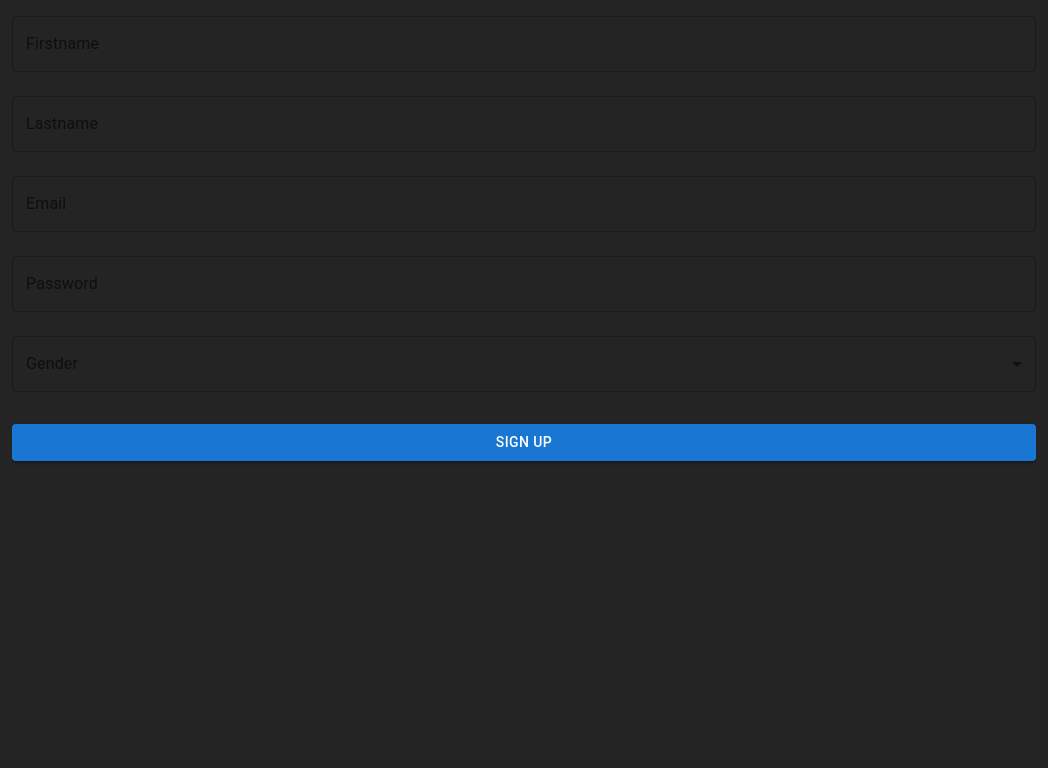
SignupForm › shows validation errors when fields are empty
Click the button "Sign Up".
click(524, 442)  # box left=12, top=424, right=1036, bottom=460
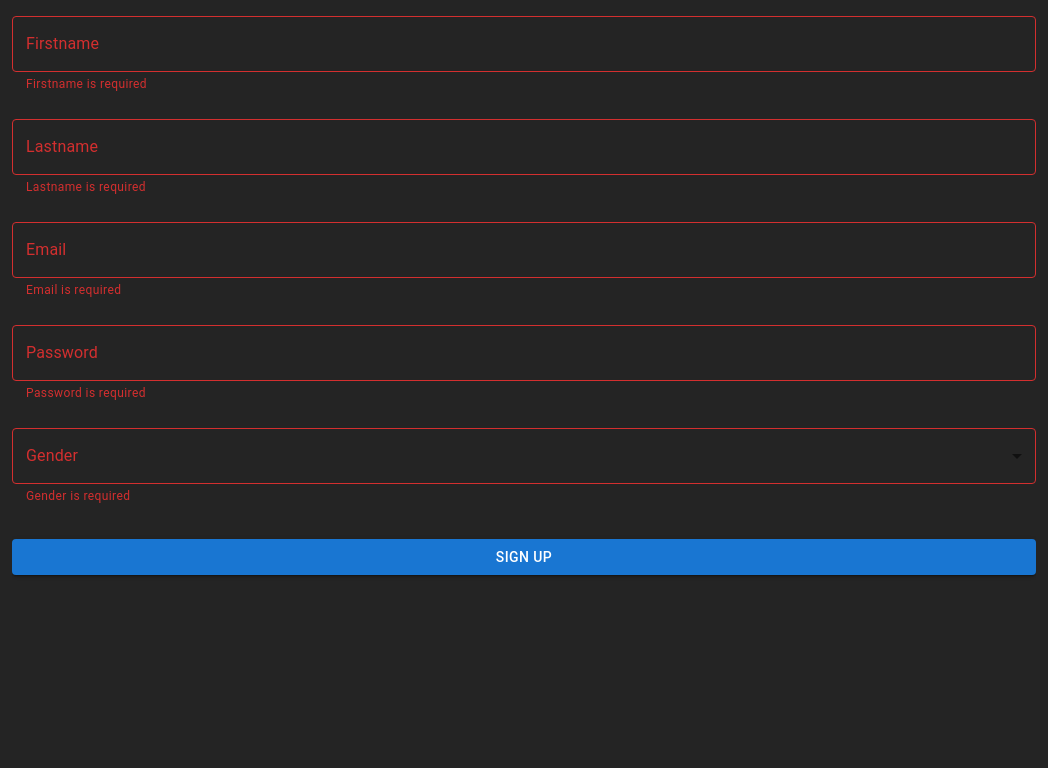
Expected: the text "Firstname is required" is shown, left=26, top=77, right=147, bottom=91
Expected: the text "Lastname is required" is shown, left=26, top=180, right=146, bottom=194
Expected: the text "Email is required" is shown, left=26, top=283, right=121, bottom=297
